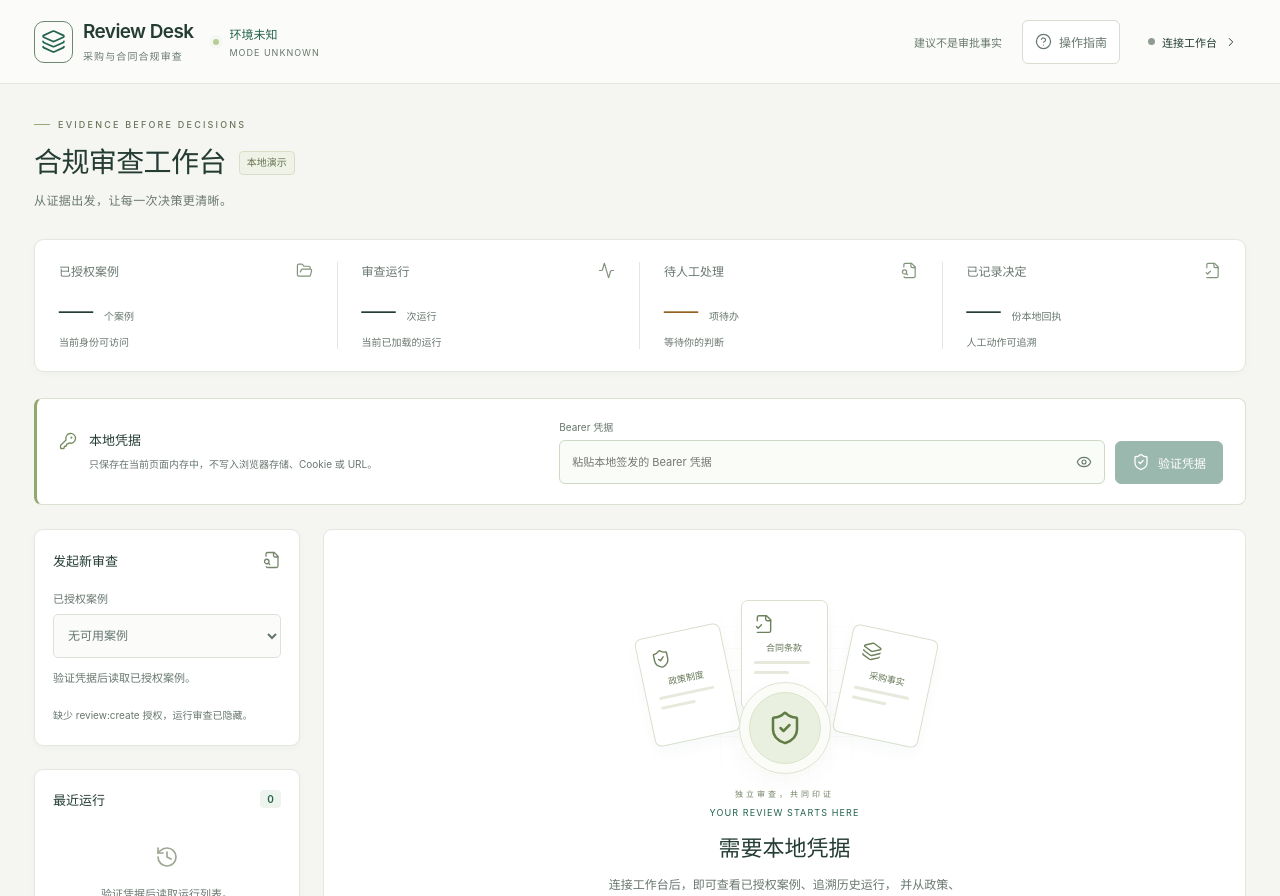
FIX-01C recoverable render boundary › shows a recoverable boundary instead of a blank page, and logs no payload
The image size is (1280, 896).
Step 1. Type "fix01c-local-credential" into the password field labelled "Bearer 凭据" → (812, 462), box top-left (560, 441), bottom-right (1064, 483)
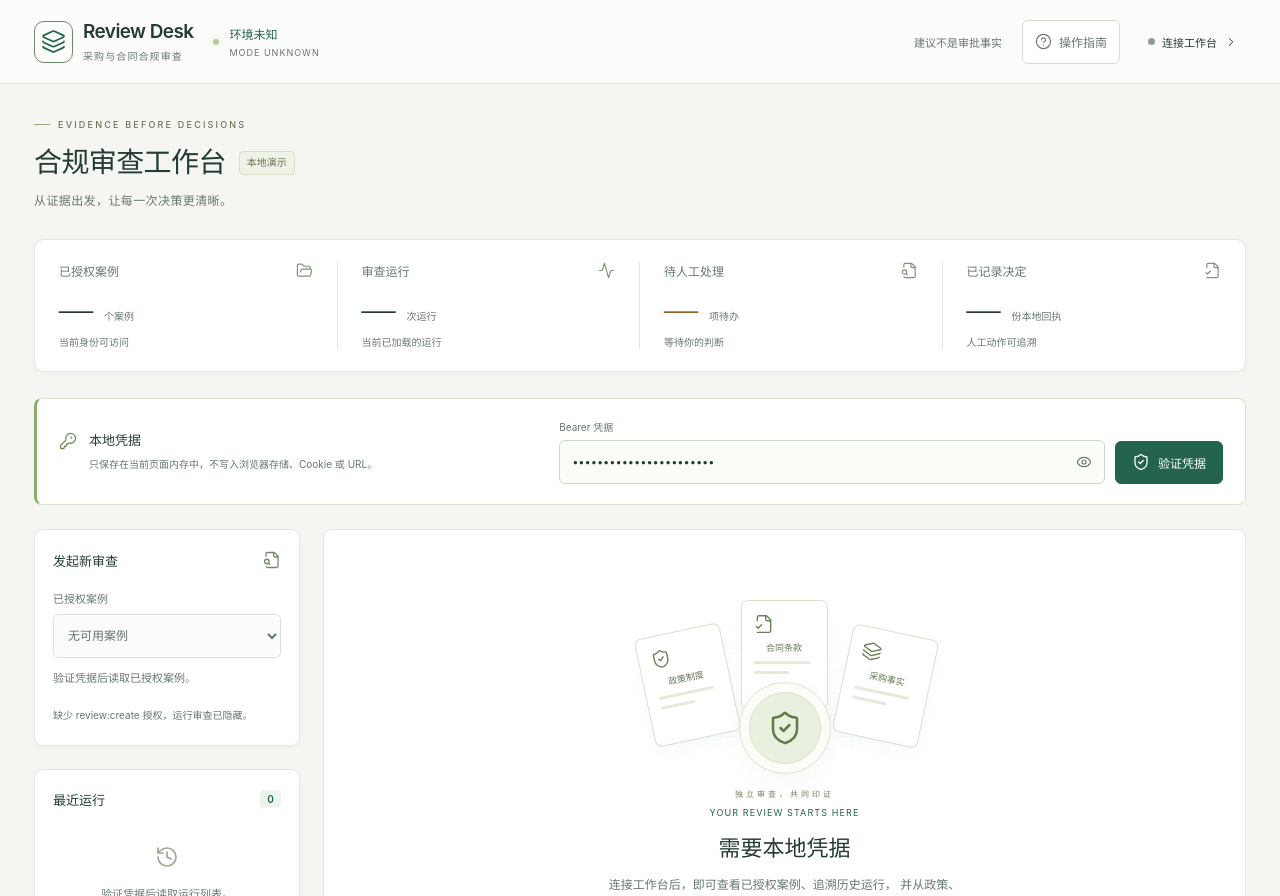
Step 2. Click the button "验证凭据" → (1169, 462), box top-left (1115, 441), bottom-right (1223, 484)
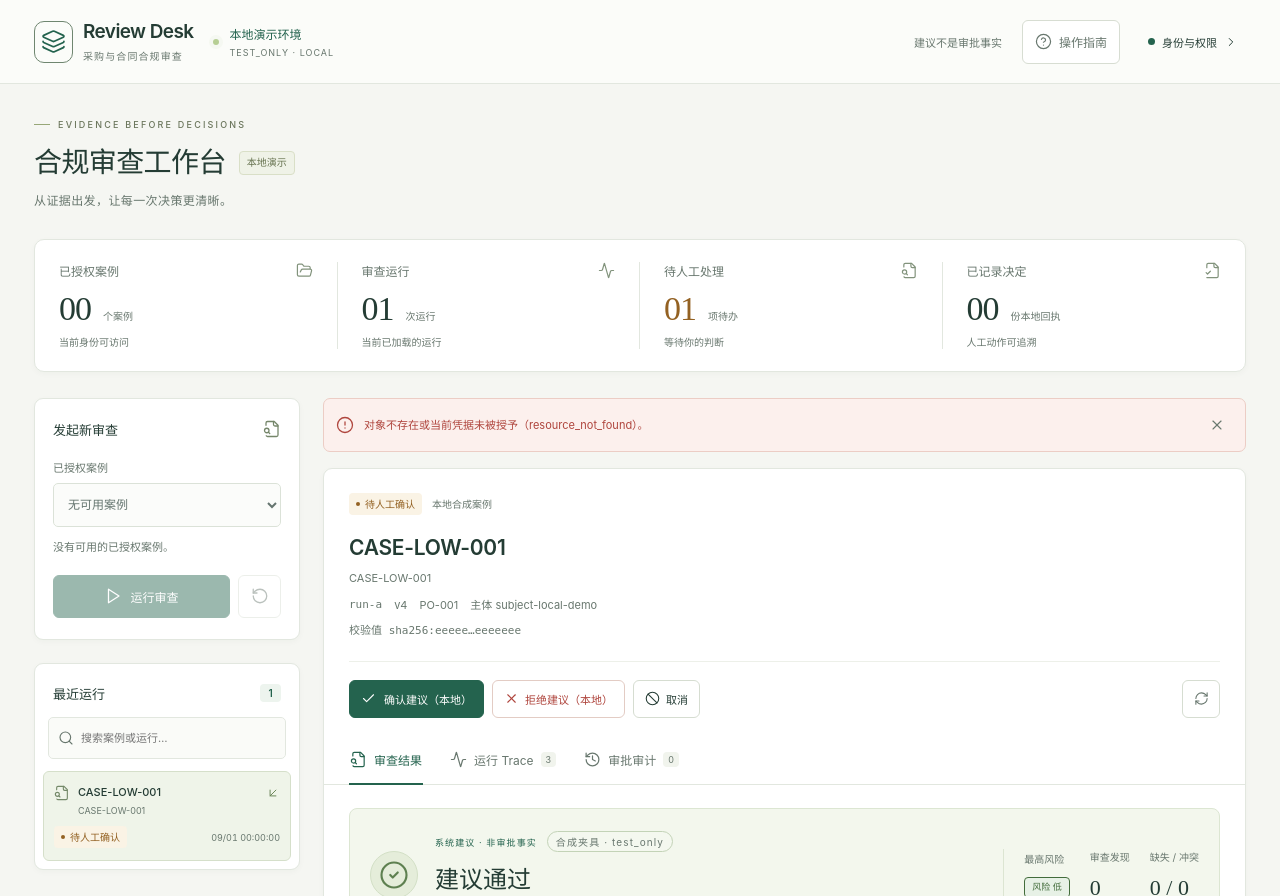
Step 3. Click the button named "刷新当前 Review" → (1201, 699), box top-left (1182, 680), bottom-right (1220, 718)
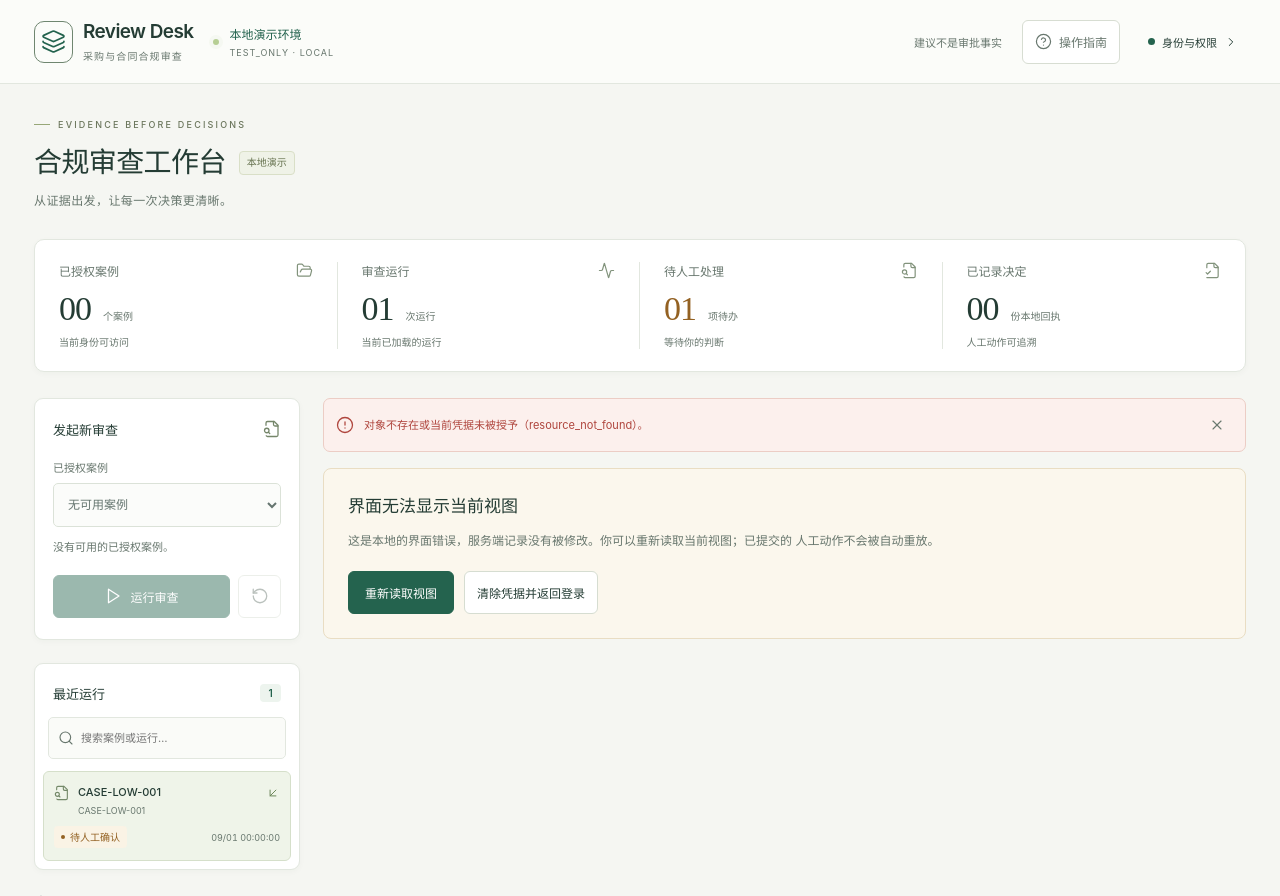
Now the message "界面无法显示当前视图 这是本地的界面错误，服务端记录没有被修改。你可以重新读取当前视图；已提交的 人工动作不会被自动重放。 重新读取视图 清除凭据并返回登录" is shown, box top-left (323, 468), bottom-right (1246, 639)
Now the button "重新读取视图" is shown, box top-left (348, 571), bottom-right (454, 614)
